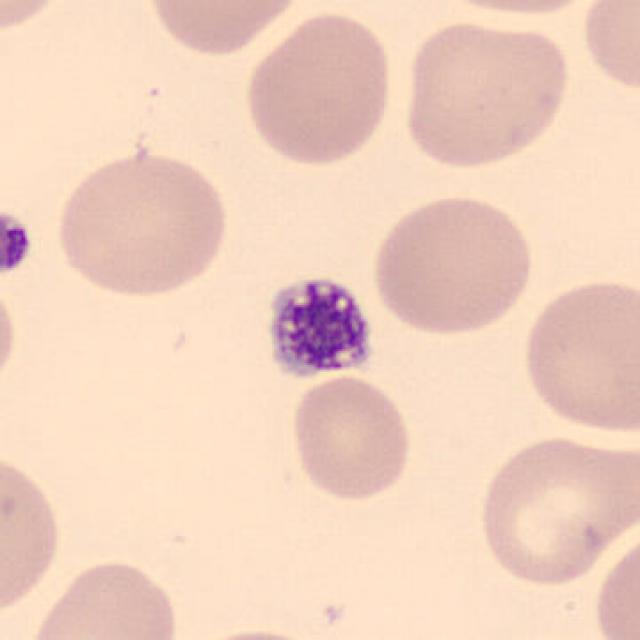Platelets: (258, 268, 382, 388), (0, 212, 34, 280)
RBC: (50, 144, 233, 302), (396, 14, 574, 173), (473, 428, 635, 589), (366, 188, 539, 338), (240, 7, 398, 169), (518, 274, 638, 438), (286, 372, 416, 504), (21, 553, 184, 640), (0, 448, 66, 624), (140, 0, 304, 58), (576, 0, 638, 99), (590, 525, 640, 640), (425, 0, 610, 19), (173, 624, 343, 640), (0, 0, 69, 39), (0, 271, 21, 398)
